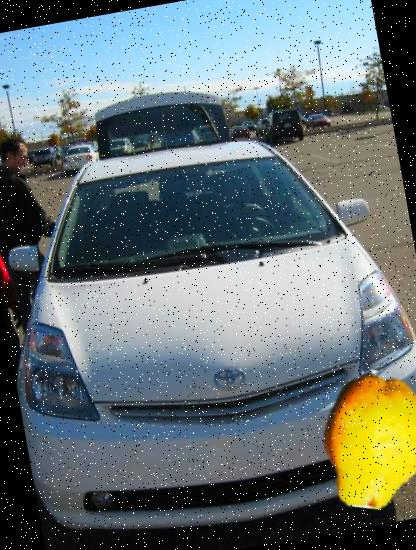Quince: (296, 359, 416, 519)
